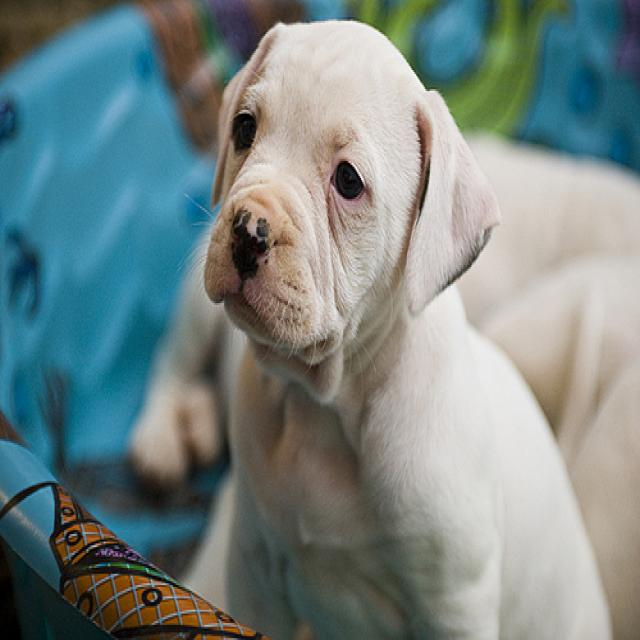dog-american_bulldog: (134, 15, 637, 636)
